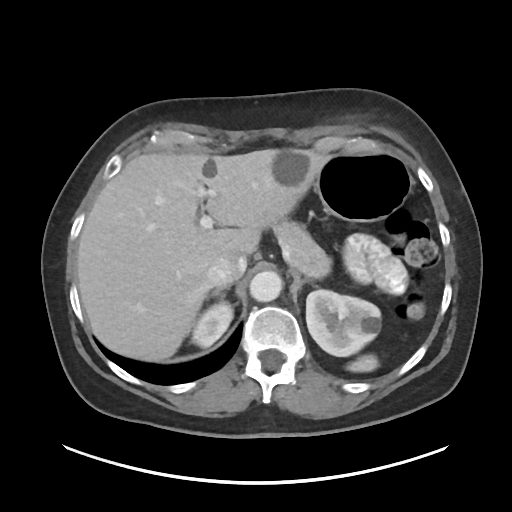Lesion: (358, 312, 385, 339)
